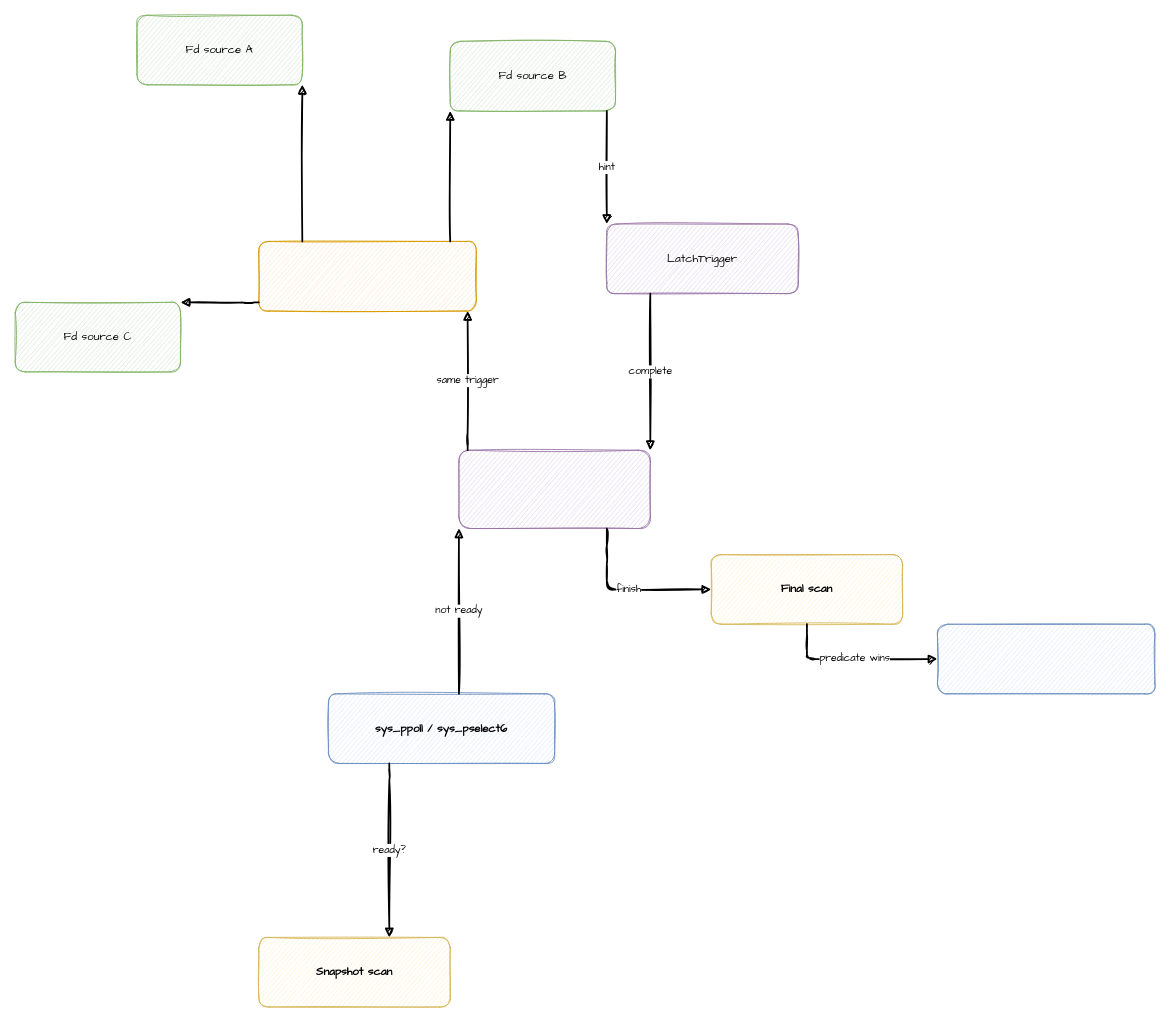
The diagram is 1170 pixels wide and 1022 high, and some of its shapes have lost their labels. The box of each missing label's shape, as (x1, y1, x2, y2) in pixels:
Latch one wait round: (458, 449, 650, 529)
Outcome mapping: (937, 623, 1155, 694)
PollRequest::register: (258, 241, 476, 311)
